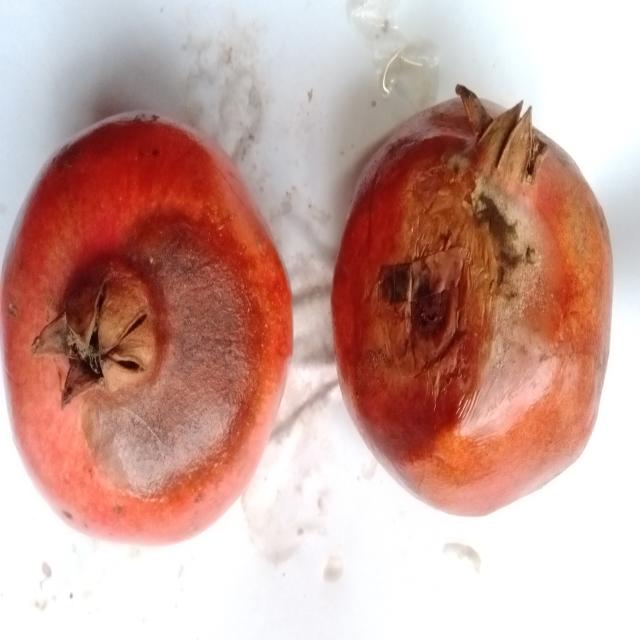Rotten: (0, 102, 294, 552), (327, 75, 619, 522)
